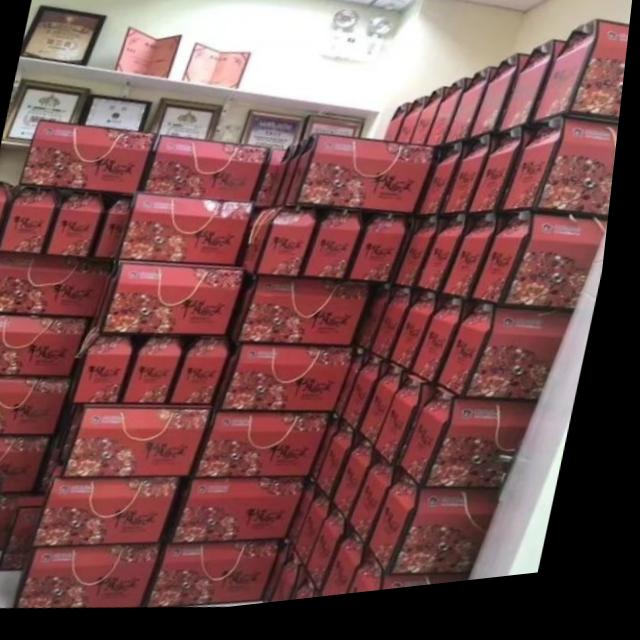box: (409, 402, 548, 502), (478, 224, 615, 324), (447, 315, 581, 415), (380, 489, 513, 586), (290, 141, 439, 224), (507, 130, 623, 232), (102, 264, 250, 341), (70, 406, 221, 481), (235, 281, 379, 355), (22, 120, 159, 197), (199, 413, 342, 485), (536, 32, 632, 139), (44, 480, 191, 549), (158, 539, 295, 612), (221, 350, 361, 420), (127, 196, 258, 270), (176, 483, 317, 548), (29, 550, 171, 611), (149, 139, 274, 206), (0, 252, 119, 322), (0, 314, 95, 379), (385, 382, 450, 477), (419, 308, 488, 396), (504, 52, 569, 144), (449, 222, 516, 310), (242, 213, 322, 284), (474, 139, 539, 225), (76, 325, 143, 406), (472, 66, 532, 149), (352, 221, 419, 293), (424, 226, 487, 302), (2, 188, 71, 257), (0, 377, 78, 438), (400, 300, 457, 381), (306, 217, 369, 289), (420, 152, 481, 226), (363, 567, 484, 603), (177, 343, 241, 411), (448, 146, 503, 225), (362, 472, 417, 551), (399, 225, 460, 296), (449, 77, 504, 154), (131, 340, 193, 408), (51, 193, 112, 260), (318, 519, 368, 600), (342, 448, 393, 527), (378, 296, 433, 369), (369, 376, 419, 452), (326, 434, 378, 507), (334, 540, 389, 606), (354, 364, 403, 438), (0, 437, 60, 494), (10, 498, 55, 572), (430, 87, 475, 156), (362, 295, 409, 359), (307, 502, 349, 573), (343, 357, 381, 425), (415, 95, 454, 155), (300, 491, 336, 556), (98, 200, 136, 261), (278, 146, 311, 212), (321, 425, 354, 486), (276, 549, 307, 611), (282, 566, 323, 610), (258, 155, 289, 212), (0, 180, 23, 248), (401, 107, 434, 153), (278, 151, 299, 211), (386, 112, 417, 151), (308, 588, 337, 608)
